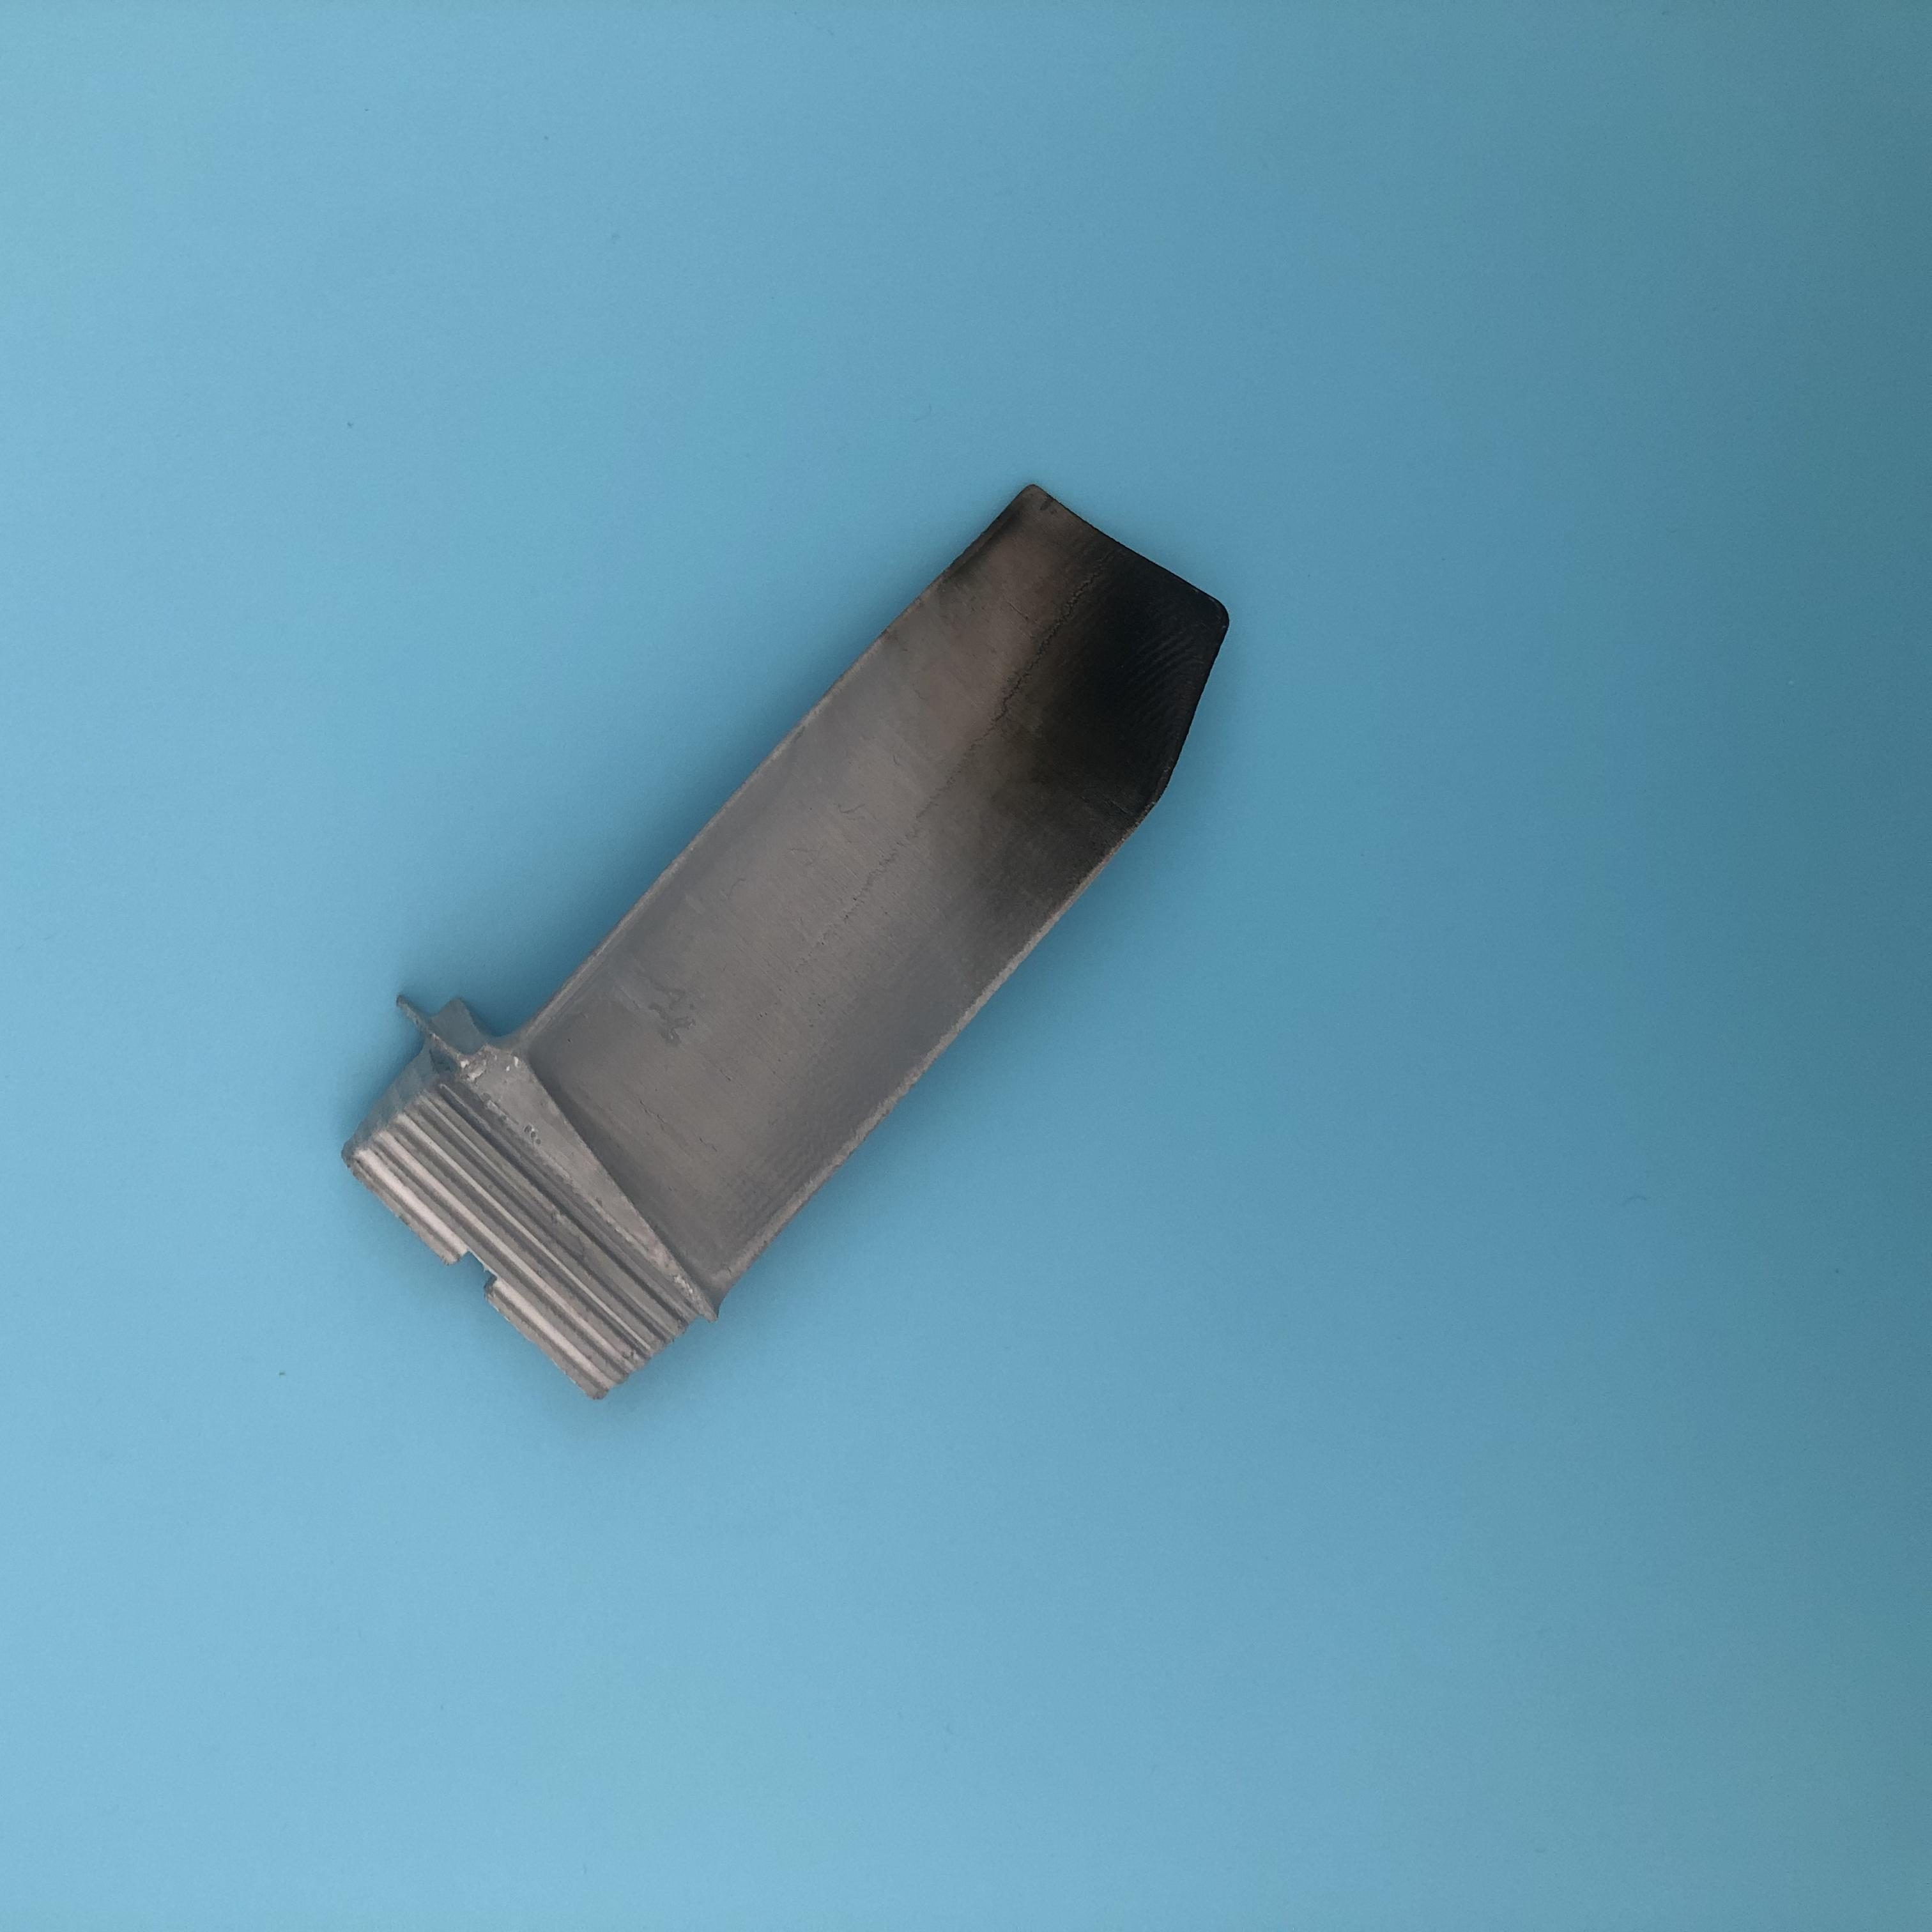ablation: (1028, 552, 1192, 851)
